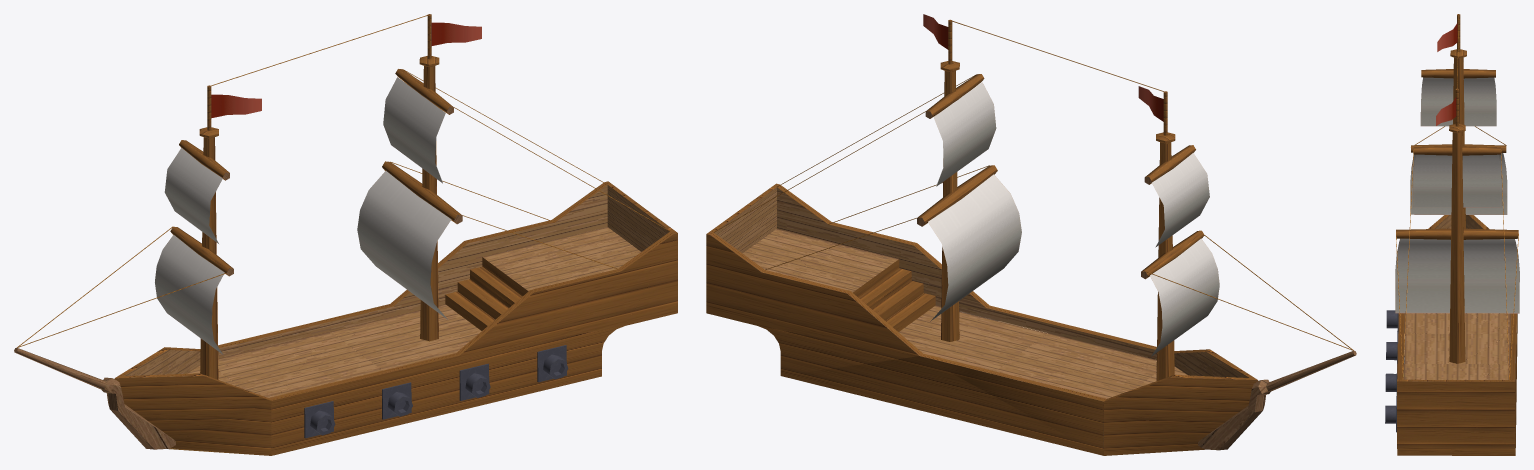
3 renders of one model, left to right at view 1: azimuth 30°, elevation 25°; view 2: azimuth 150°, elevation 25°; view 3: azimuth 270°, elevation 25°, orthographic. The views are drawn at different scales.
Parts seen in each view (by area): view 1: defaultMaterial.025; view 2: defaultMaterial.025; view 3: defaultMaterial.025.
Part boxes in pixels (box(x1,y1,x2,y2)): defaultMaterial.025: box(14, 14, 677, 455); defaultMaterial.025: box(706, 14, 1356, 455); defaultMaterial.025: box(1385, 14, 1519, 455).
Bounding box in the file's own units: 1937 × 1091 × 429.
1 material, 1 textured.
